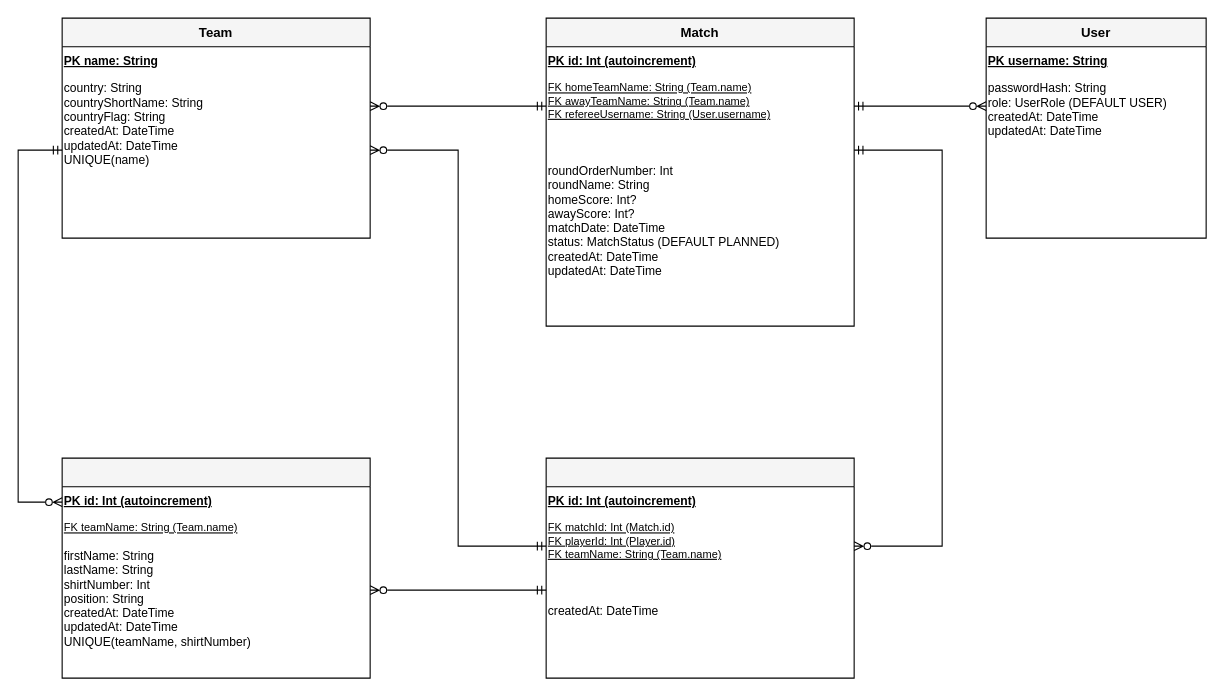
Some shapes in this 1224 by 696 pixel diagram are drawn without their labels. The box of each missing label's shape, as (x1, y1, x2, y2) in pixels:
Goal: (545, 457, 854, 678)
Player: (61, 457, 370, 678)
